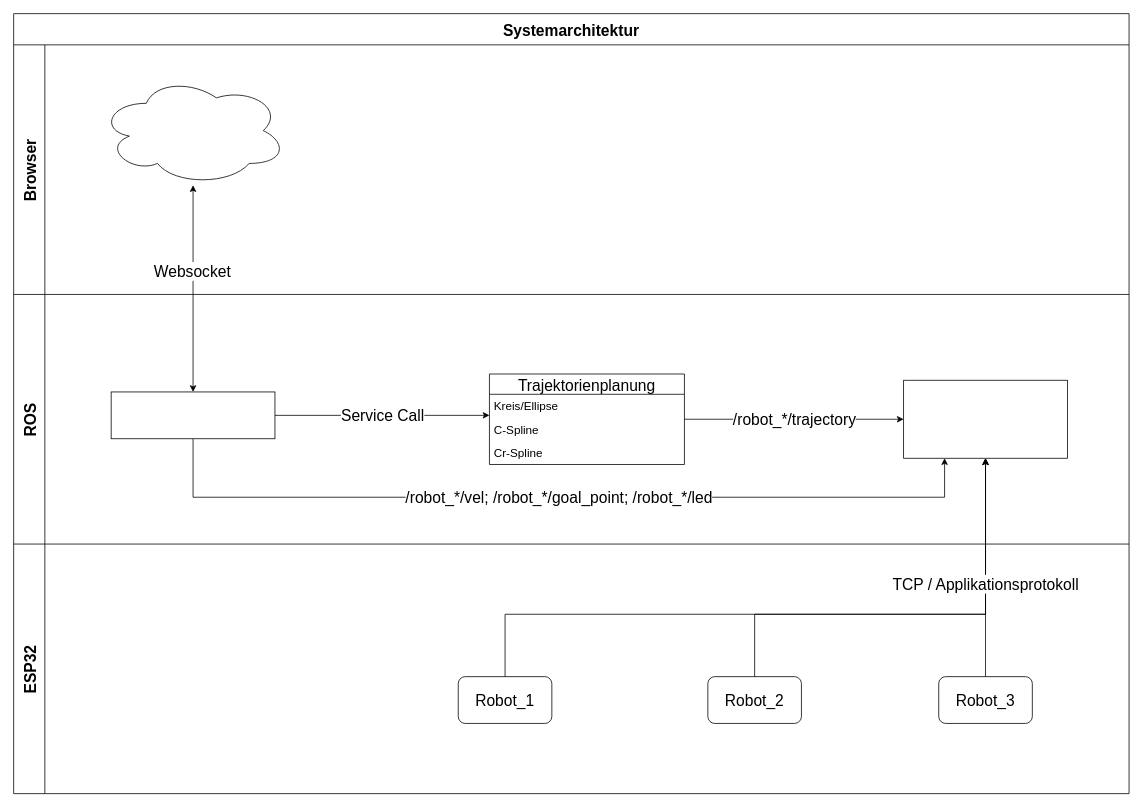
Some shapes in this 1143 by 807 pixel diagram are drawn without their labels. The centre of each missing label's shape, as x and y in pixels:
"Robot Bridge Server" belongs at point 985,418.
"ROS Bridge Server" belongs at point 192,415.
"Web-App" belongs at point 193,130.
